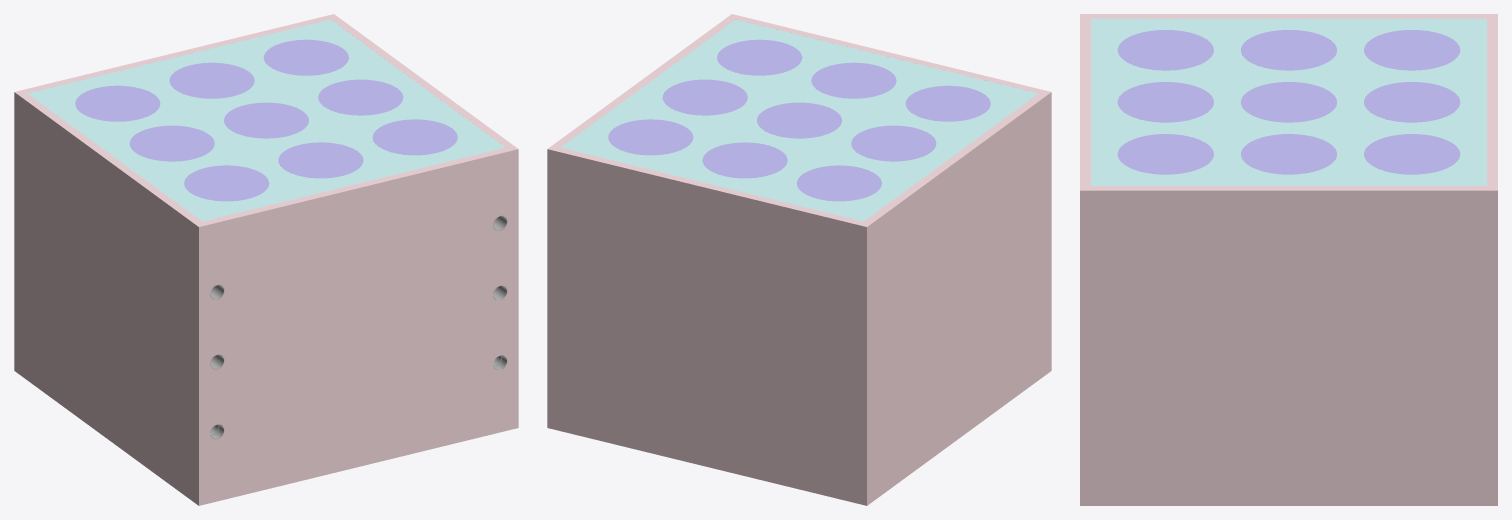
The model's file is pcm_model.glb.
3 renders of one model, left to right at view 1: azimuth 30°, elevation 25°; view 2: azimuth 150°, elevation 25°; view 3: azimuth 270°, elevation 25°, orthographic. The views are drawn at different scales.
Visible parts, largest first — view 1: pcm model; view 2: pcm model; view 3: pcm model.
Boxes of the visible parts, bbox=[...] form: pcm model: bbox=[14, 14, 518, 505]; pcm model: bbox=[547, 14, 1051, 505]; pcm model: bbox=[1080, 14, 1497, 505].
Bounding box in the file's own units: 0.078 × 0.065 × 0.078.
